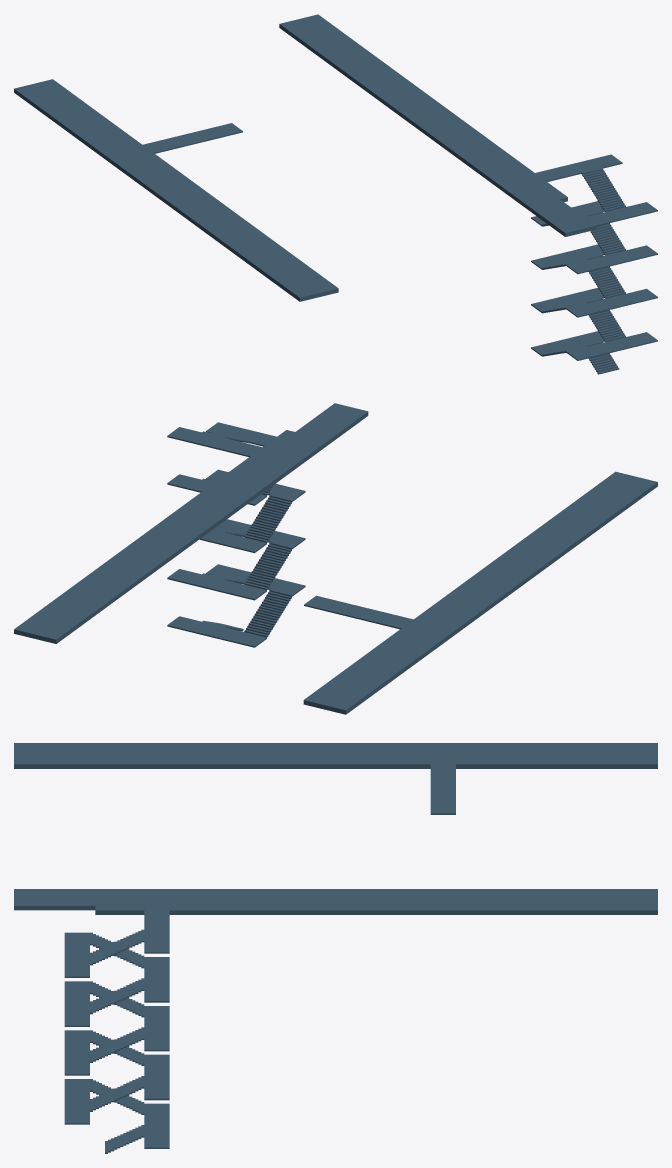
Rendered from v02-02-06-deck.glb.
3 views of the same model, one above another, from view 1: azimuth 30°, elevation 25°; view 2: azimuth 150°, elevation 25°; view 3: azimuth 270°, elevation 25° (orthographic). The views are drawn at different scales.
Parts seen in each view (by area): view 1: v02-02-06-deck; view 2: v02-02-06-deck; view 3: v02-02-06-deck.
Boxes of the visible parts, x1,y1,x2,y2 form: v02-02-06-deck: (14, 14, 657, 374); v02-02-06-deck: (14, 403, 657, 714); v02-02-06-deck: (14, 743, 657, 1153).
Size of the model in its own units: 58.8 by 27.91 by 76.5.
